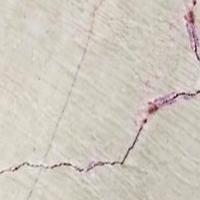crack: (1, 8, 199, 192)
